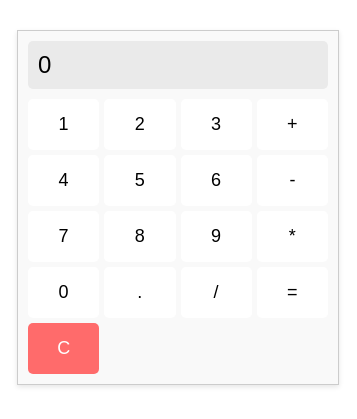
Test: 加算が正しく行われること
Click the button "1": [64, 124] box [28,98,99,150]
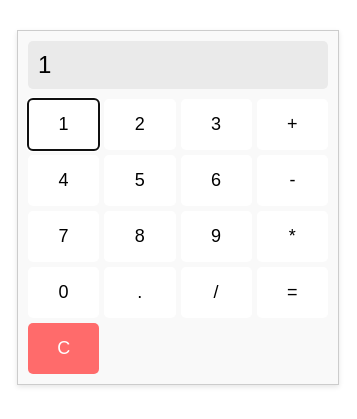
Click the button "+": [292, 124] box [257,98,328,150]
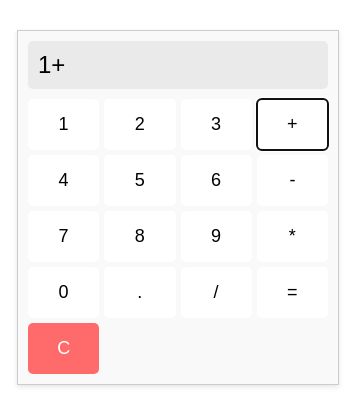
Click the button "2": [140, 124] box [104,98,176,150]
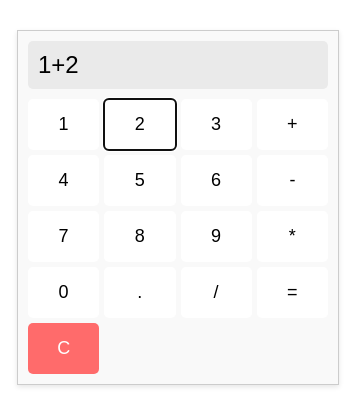
Click the button "=": [292, 292] box [257,266,328,318]
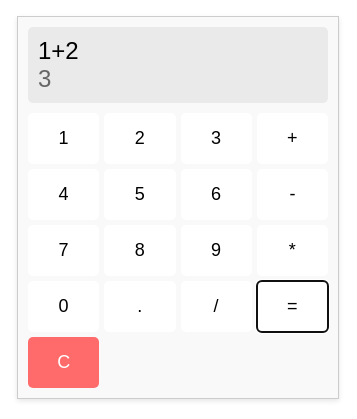
Check: the text named "result" reads "3", box [38,64,51,92]
